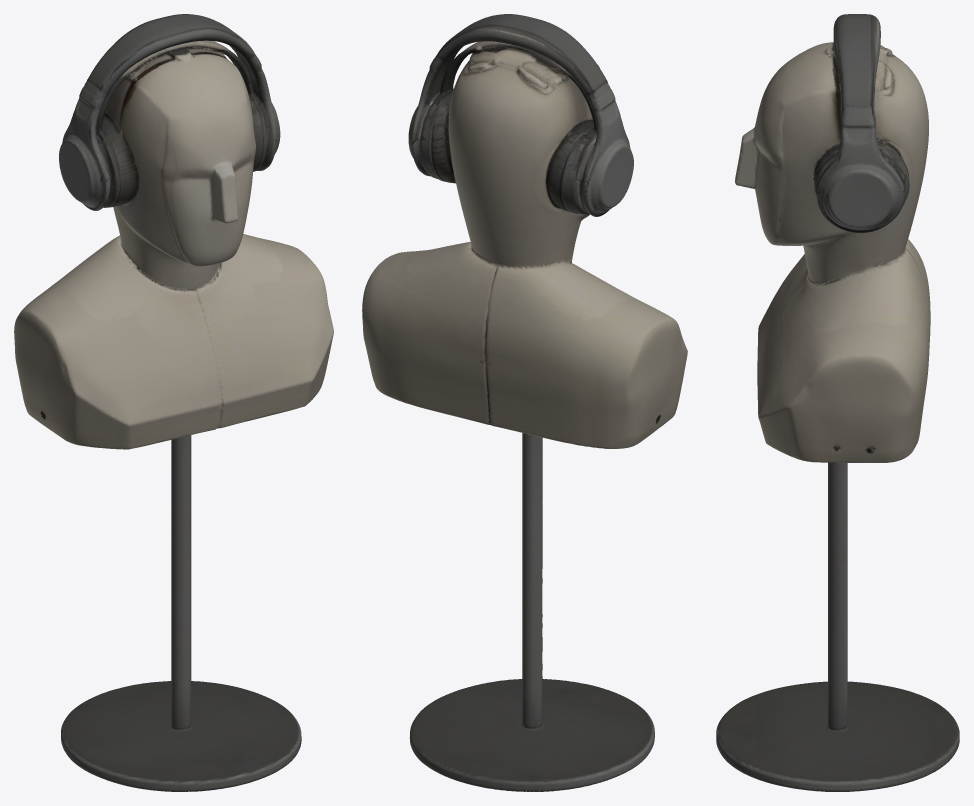
The model's file is head.glb.
3 views of the same model, side by side, from view 1: azimuth 30°, elevation 25°; view 2: azimuth 150°, elevation 25°; view 3: azimuth 270°, elevation 25° (orthographic).
Parts seen in each view (by area): view 1: tripo_node_600196b4-3f29-4d9f-9577-c322824aaa26; view 2: tripo_node_600196b4-3f29-4d9f-9577-c322824aaa26; view 3: tripo_node_600196b4-3f29-4d9f-9577-c322824aaa26.
Part boxes in pixels (bbox=[...]): tripo_node_600196b4-3f29-4d9f-9577-c322824aaa26: bbox=[14, 14, 333, 791]; tripo_node_600196b4-3f29-4d9f-9577-c322824aaa26: bbox=[362, 14, 687, 791]; tripo_node_600196b4-3f29-4d9f-9577-c322824aaa26: bbox=[716, 14, 959, 791].
Size of the model in its own units: 0.4004 by 1 by 0.308.
1 material, 1 textured.
